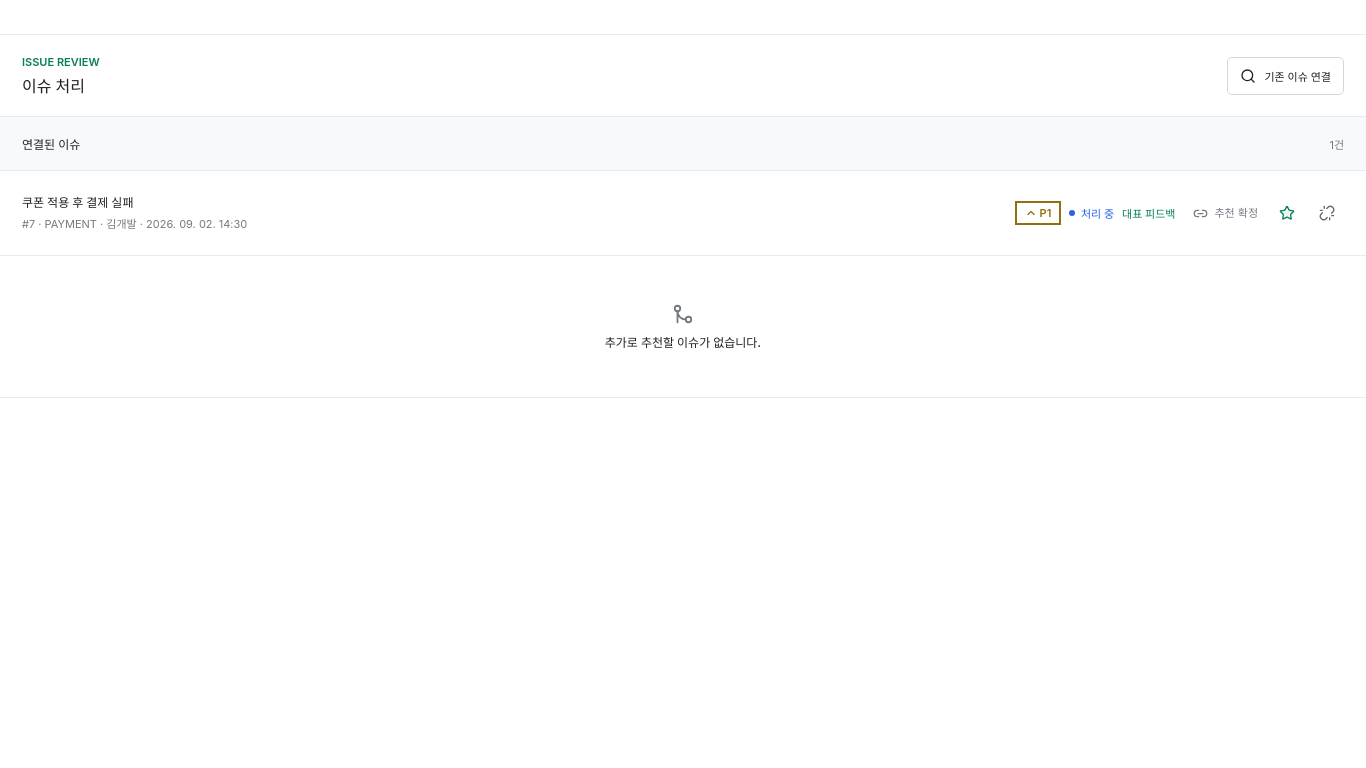
Test: FeedbackIssueSection › reloads the workflow after unlinking an issue
This screenshot has width=1366, height=768.
Click the button named "이슈 연결 해제" at (1327, 213), box [1310,196,1344,230]
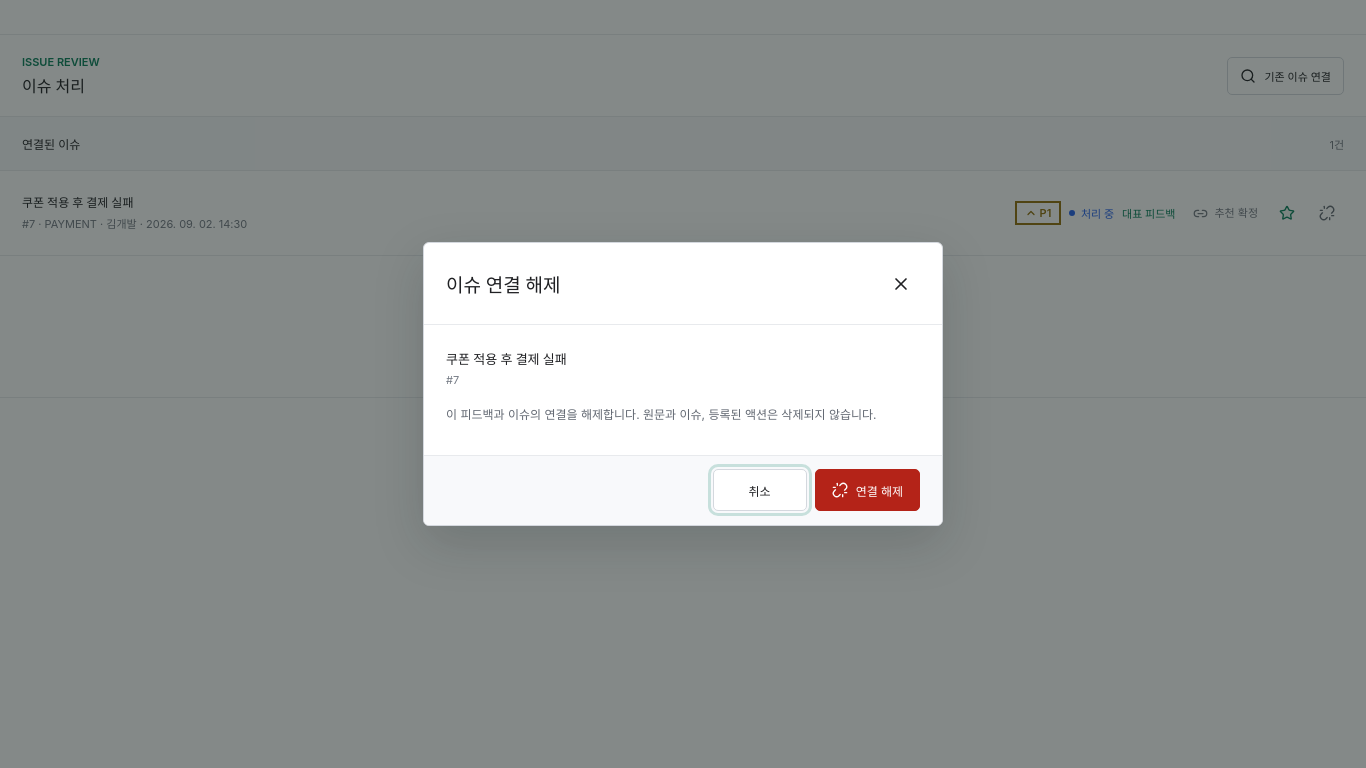
Click the button "연결 해제" at (867, 490), box [815,469,920,511]
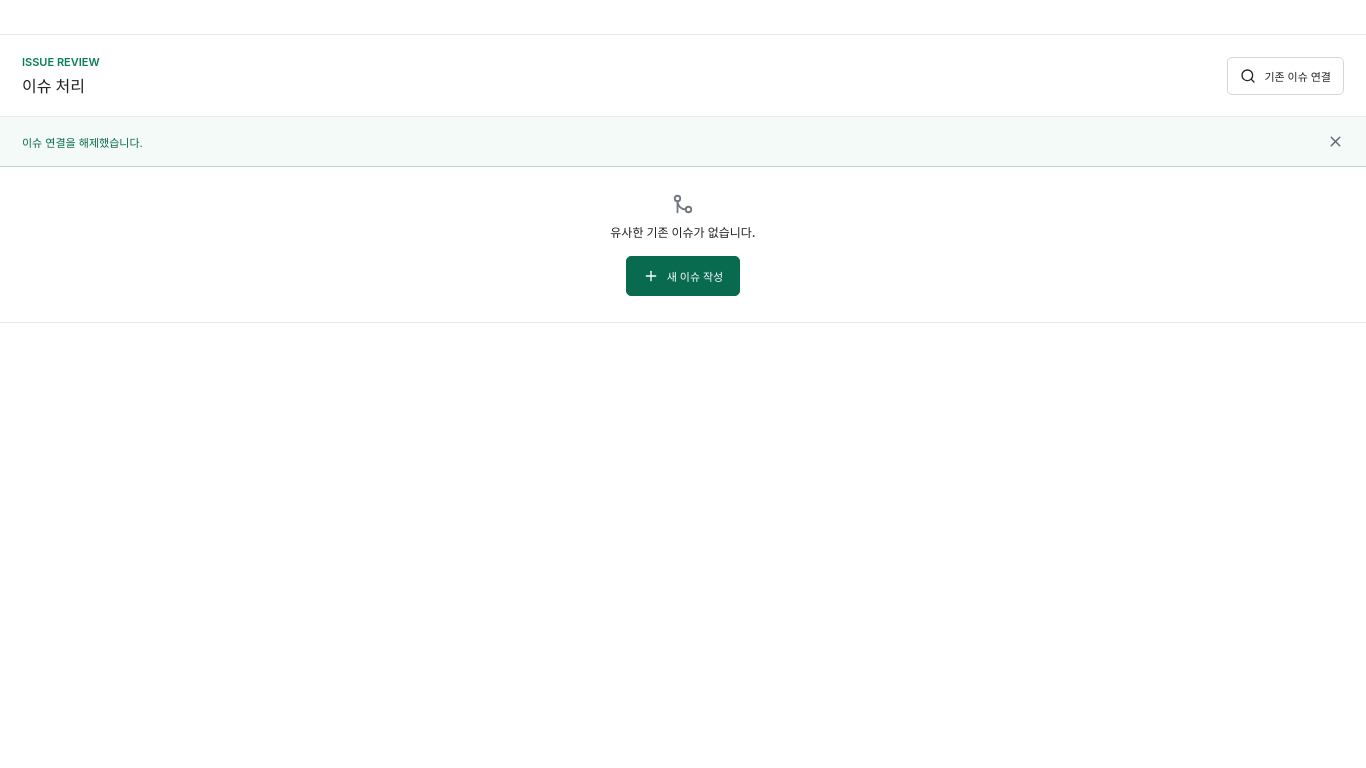
Expected: the text "이슈 연결을 해제했습니다." is shown, [22,136,143,150]
Expected: the text "유사한 기존 이슈가 없습니다." is shown, [610,223,756,240]
Expected: the link "쿠폰 적용 후 결제 실패" is gone
